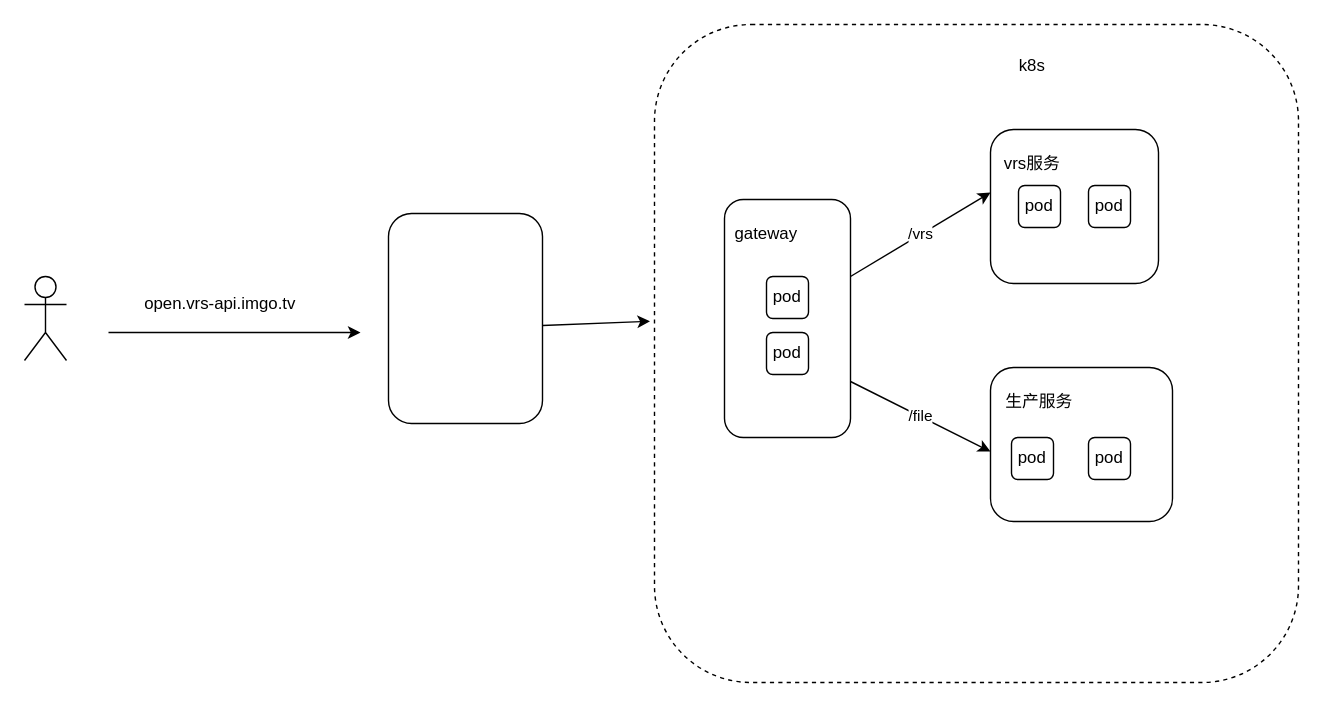
This 1323x707 diagram has some shape labels left out. The shapes that lost their labels are listed below. From the top down, each one's centre as x and y in pixels, then its label:
At point (44, 317): "Actor".
At point (464, 318): "ingress".
